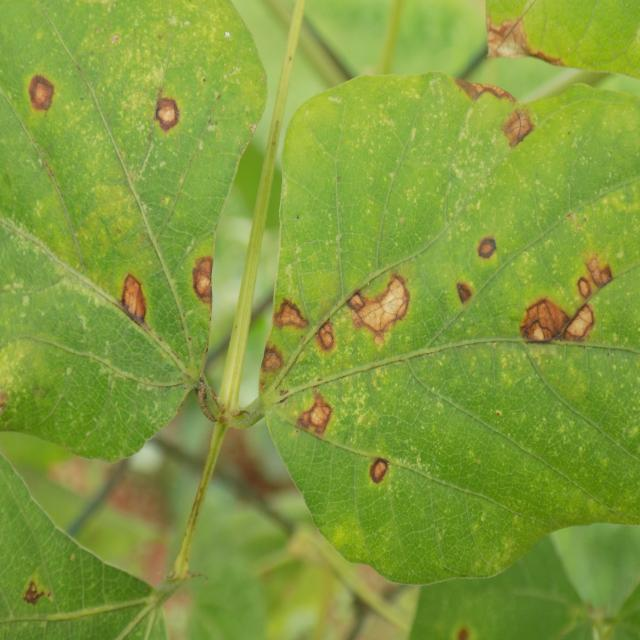Dolicos bean_cercospora leaf spot: (256, 72, 640, 585)
